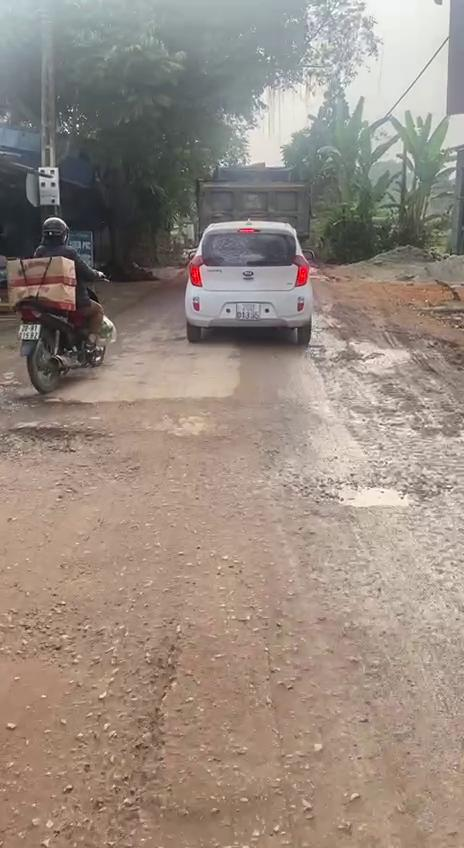pothole: (0, 590, 201, 848), (308, 472, 436, 514), (0, 422, 111, 466)
